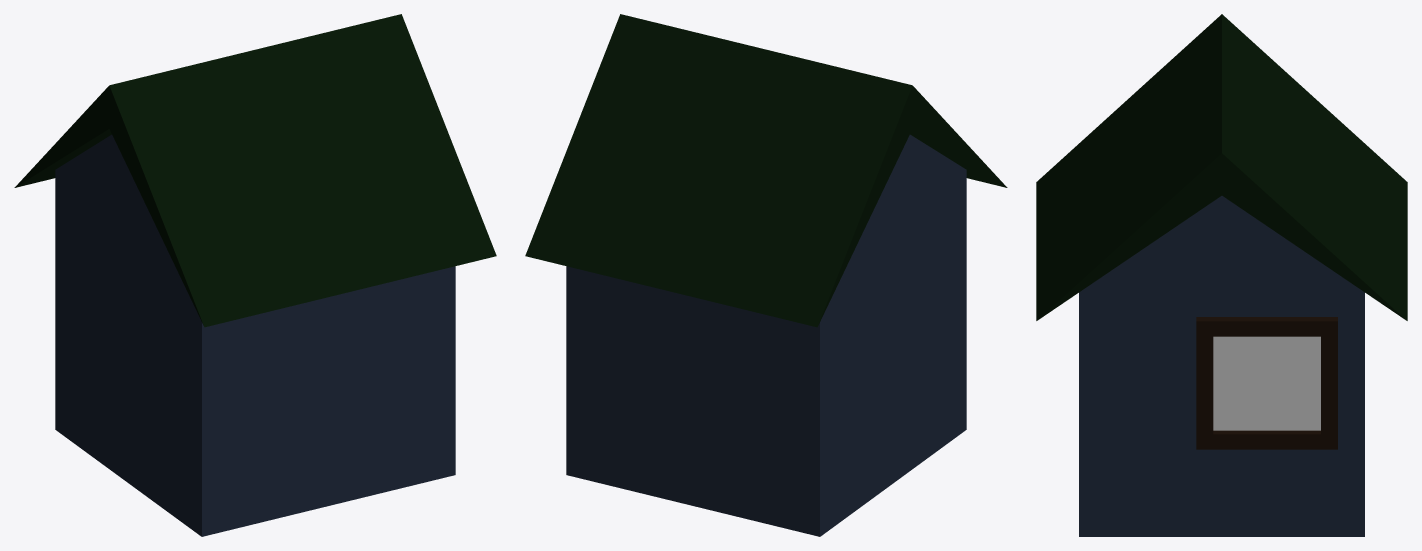
Rendered from testHouse.obj.
3 views of the same model, side by side, from view 1: azimuth 30°, elevation 25°; view 2: azimuth 150°, elevation 25°; view 3: azimuth 270°, elevation 25° (orthographic). The views are drawn at different scales.
Parts seen in each view (by area): view 1: Cube, Cube.001_Cube.002; view 2: Cube, Cube.001_Cube.002; view 3: Cube, Cube.001_Cube.002, Plane, Cube.002_Cube.003.
Part boxes in pixels (x1,y1,x2,y2): Cube: (55,134,455,536); Cube.001_Cube.002: (14,14,496,327); Cube: (566,134,966,536); Cube.001_Cube.002: (525,14,1007,327); Cube: (1079,196,1364,536); Cube.001_Cube.002: (1036,14,1407,320); Plane: (1213,336,1320,430); Cube.002_Cube.003: (1196,317,1337,449).
Bounding box in the file's own units: 4.6 × 6.06 × 5.19.
